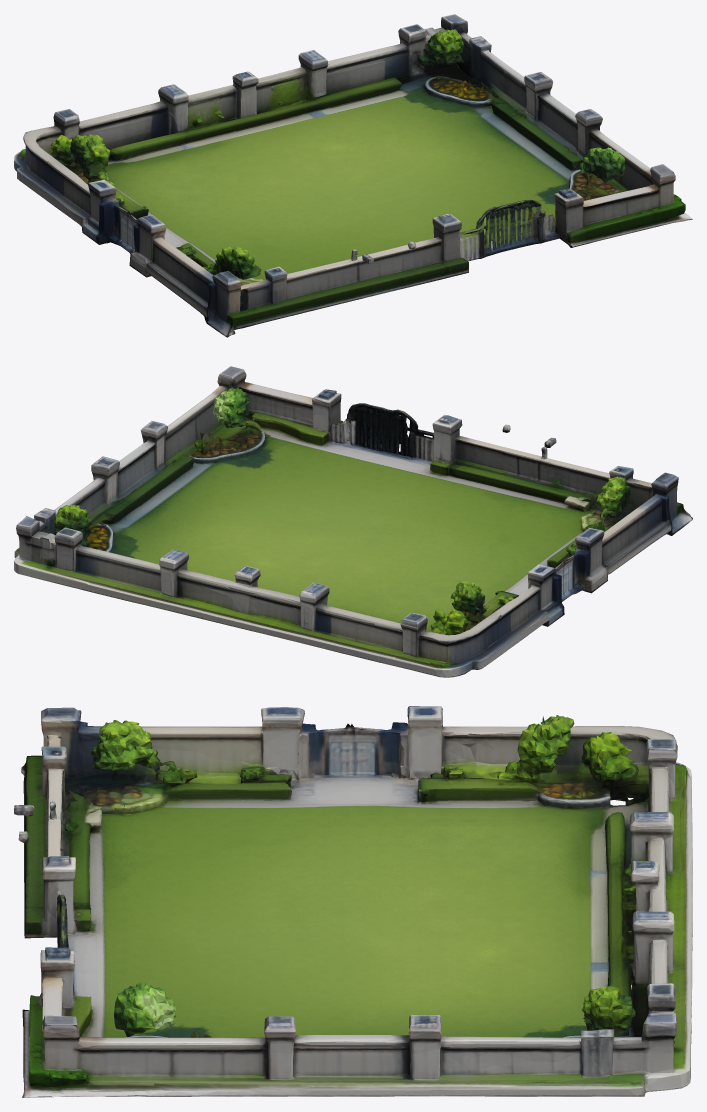
Rendered from school_boundary.glb.
The picture shows the model from 3 angles, top to bottom: view 1: azimuth 30°, elevation 25°; view 2: azimuth 150°, elevation 25°; view 3: azimuth 270°, elevation 25°; orthographic projection. The views are drawn at different scales.
Visible parts, largest first — view 1: world; view 2: world; view 3: world.
Part boxes in pixels (x1=…): world: x1=14, y1=14, x2=692, y2=337; world: x1=14, y1=366, x2=692, y2=677; world: x1=14, y1=706, x2=692, y2=1097.
Size of the model in its own units: 1 by 0.1226 by 0.8646.
1 material, 1 textured.
